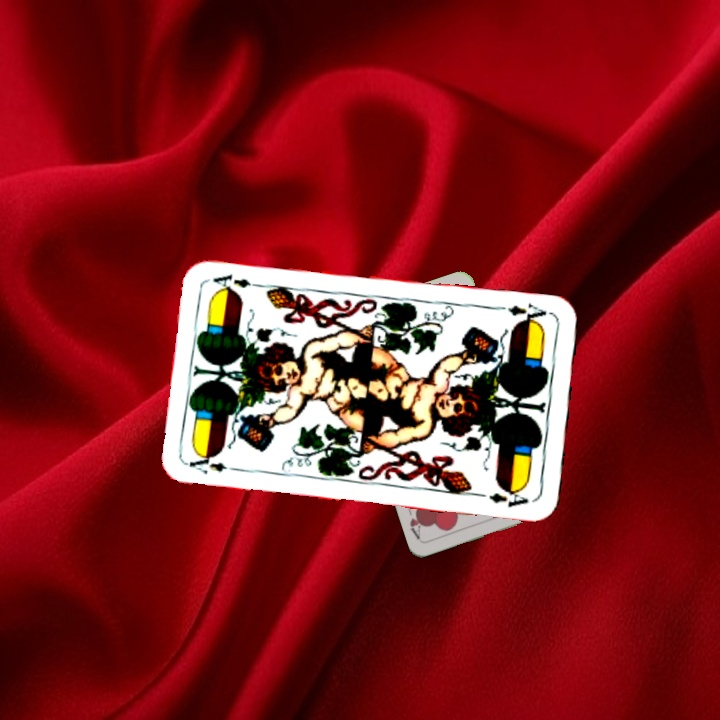EA: (185, 450, 244, 476), (504, 299, 549, 328)
